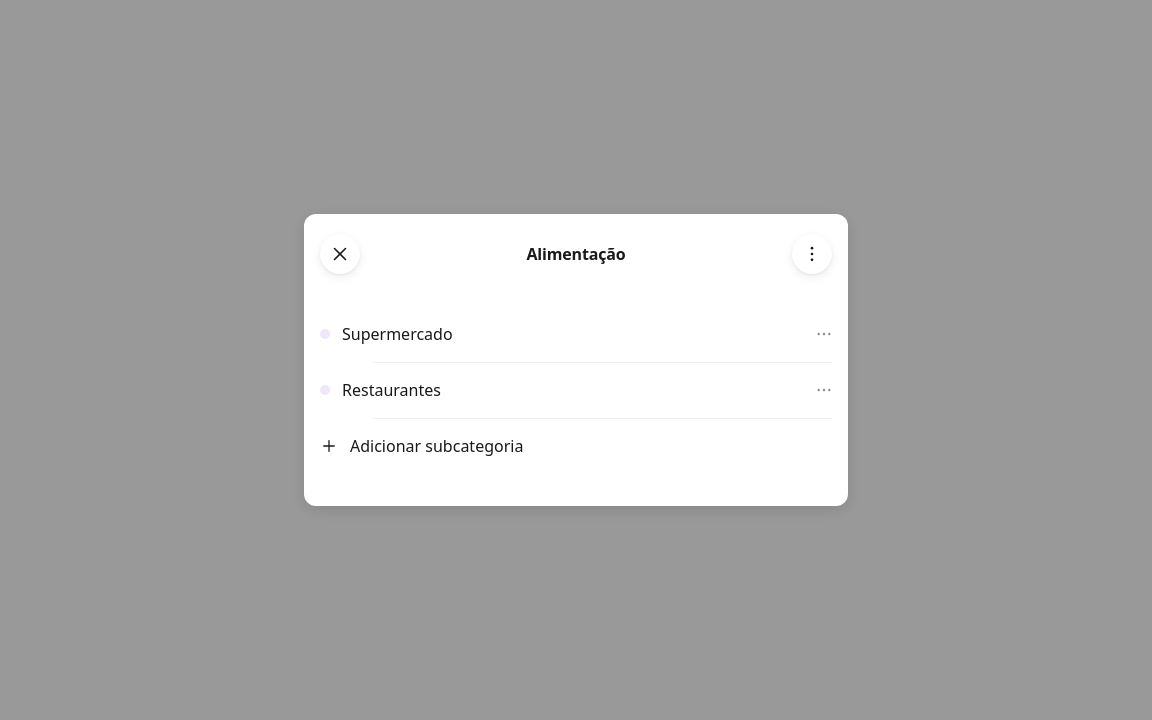
Modal de um grupo de categorias › adiciona uma subcategoria nova
The image size is (1152, 720).
Expected: the text "Supermercado" is shown, top-left (342, 323), bottom-right (453, 345)
Click the button "Adicionar subcategoria" at (437, 446), box top-left (304, 418), bottom-right (848, 474)
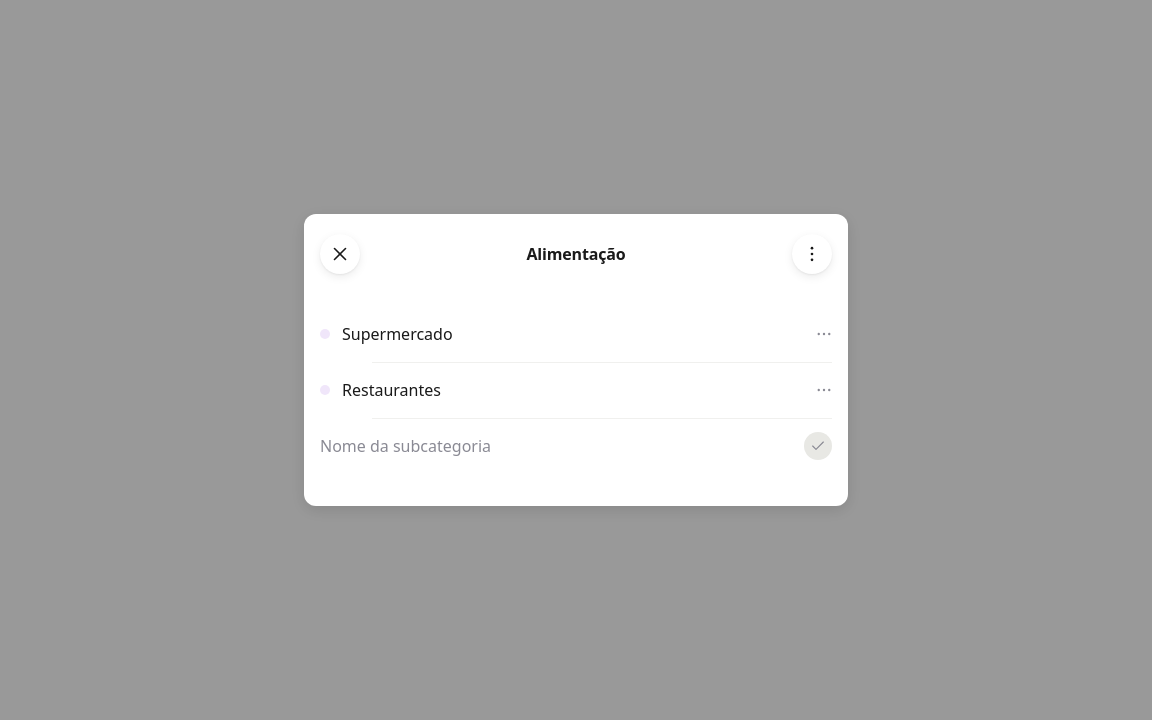
Type "Take-away" into the field with placeholder "Nome da subcategoria" at (556, 446), box top-left (320, 434), bottom-right (792, 458)
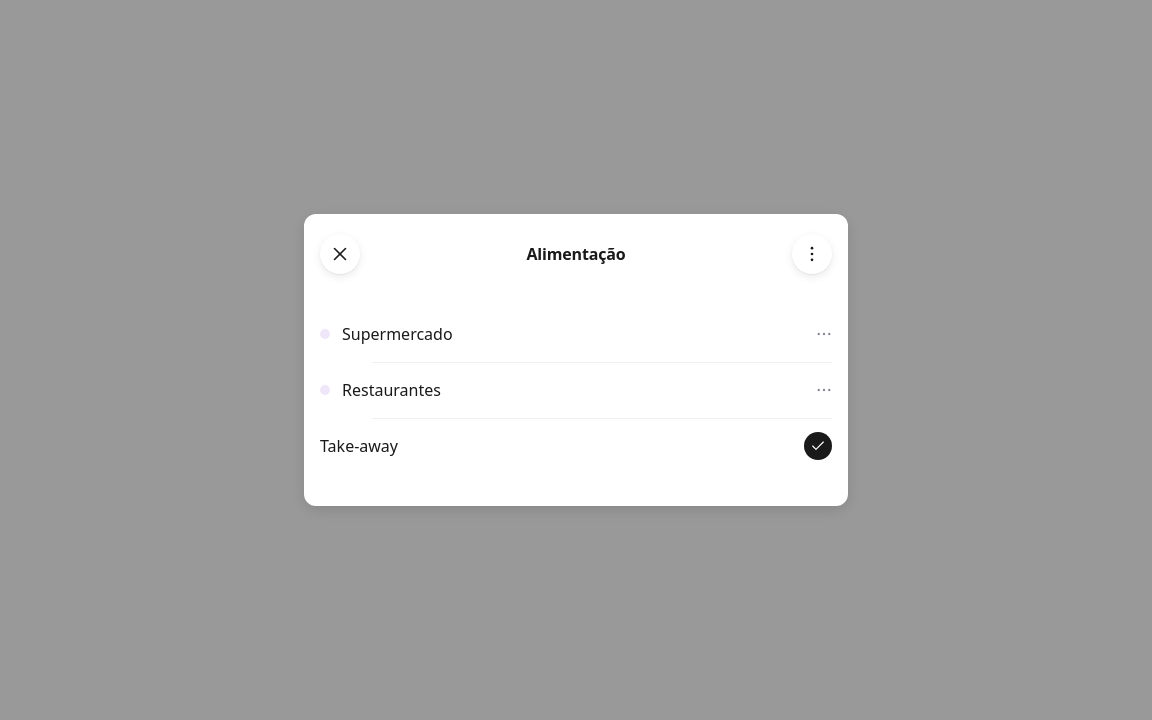
Click the button named "Confirmar" at (818, 446), box top-left (804, 432), bottom-right (832, 460)
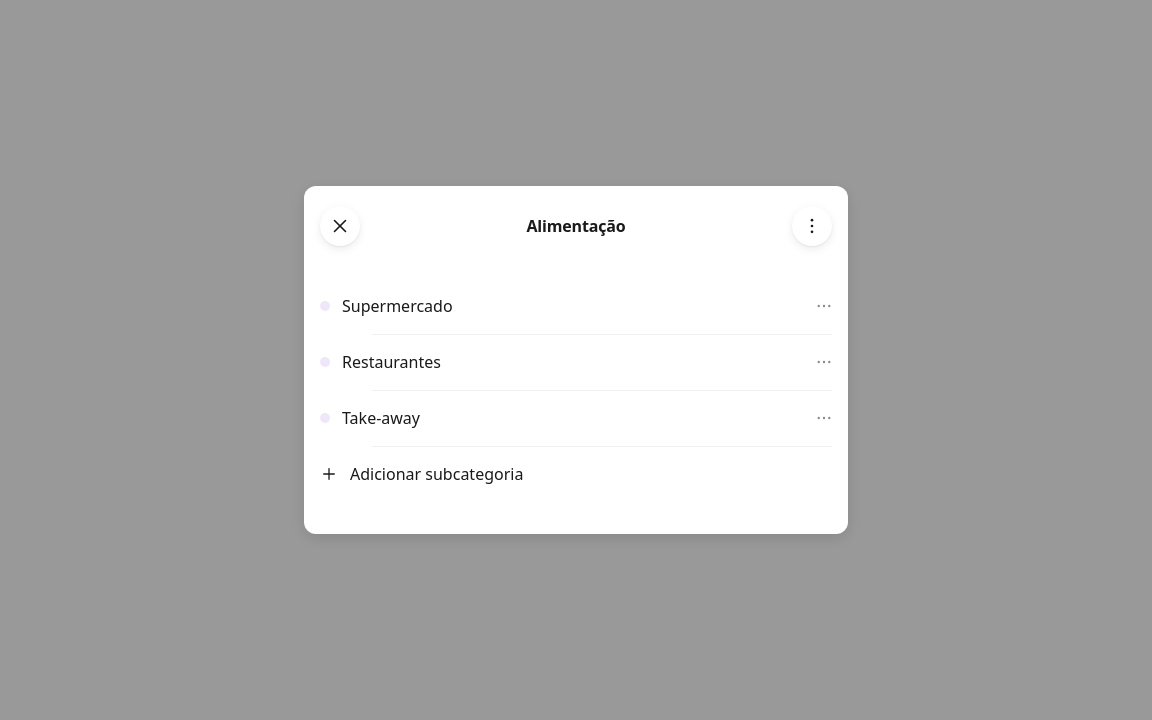
Now the text "Take-away" is shown, box top-left (342, 407), bottom-right (420, 429)
